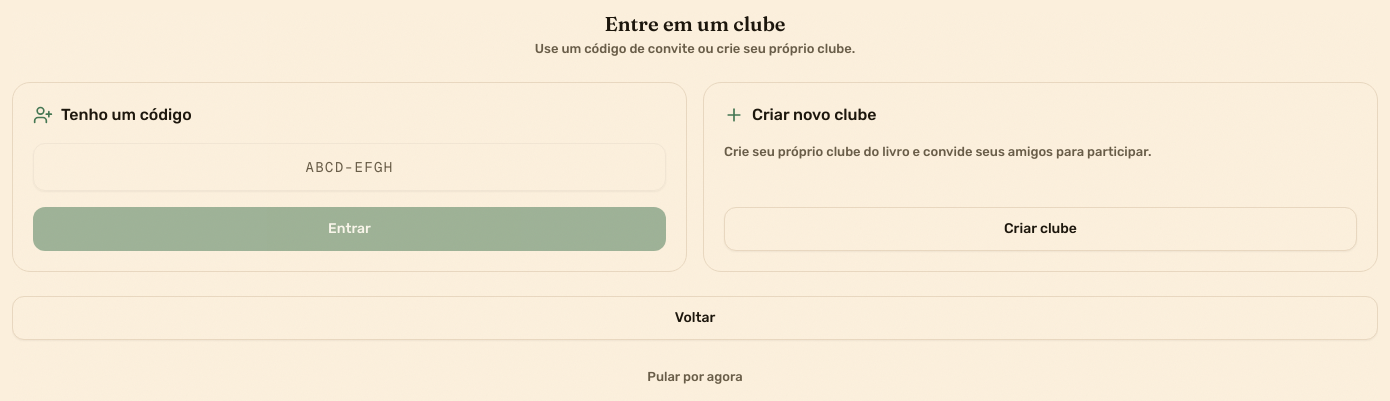
it: StepClubForm › formats input to uppercase with dash
Type "abcd2345" into the field named "Código de convite" at [350, 167], box [33, 143, 666, 191]
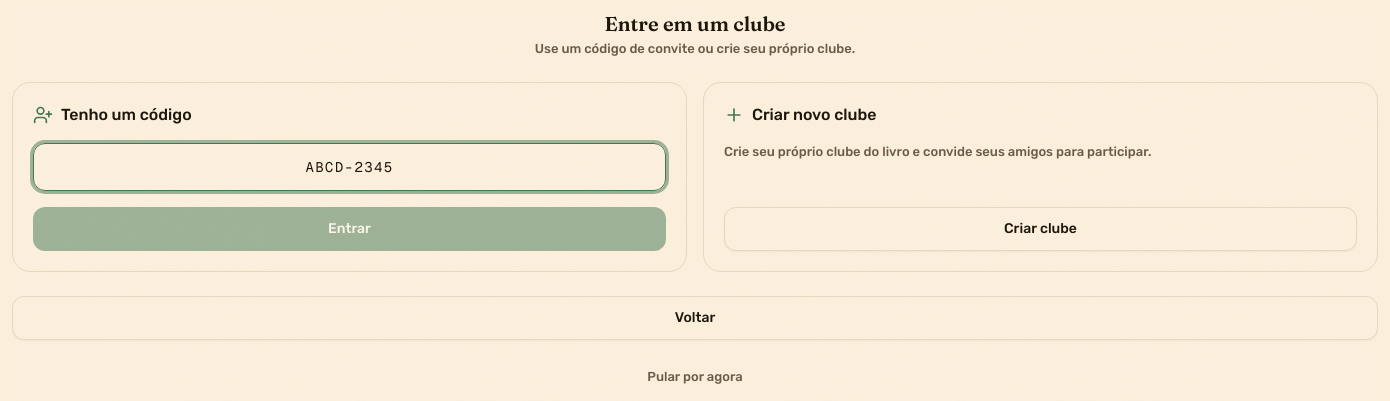
Check: the field named "Código de convite" holds "ABCD-2345", box [33, 143, 666, 191]
